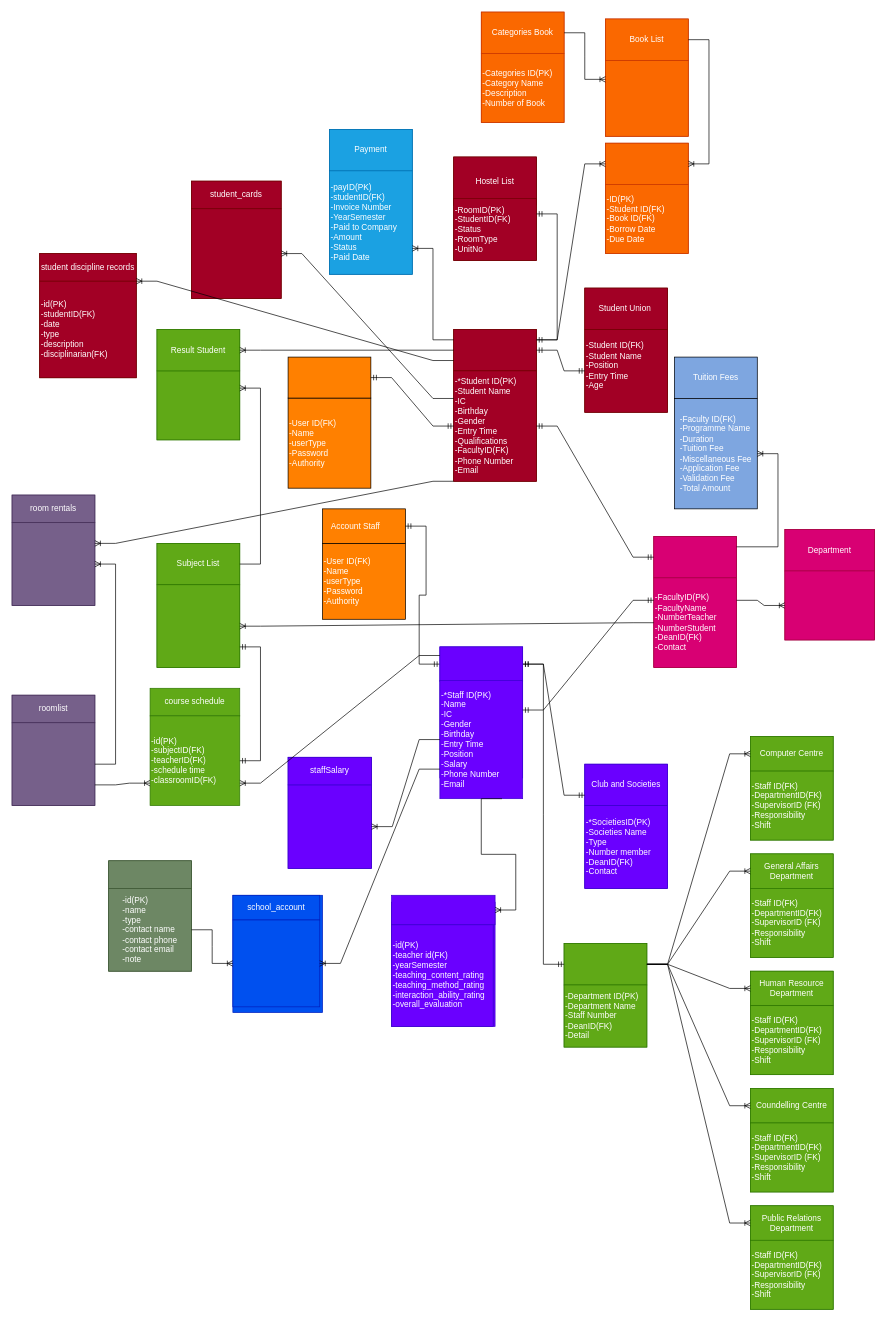
This 887x1321 diagram has some shape labels left out. The centre of each missing label's shape, as x and y in pixels:
-Book ID(PK) -Title -Author -Publication year -Category ID(FK): [646,98]
-FacultyID(FK) -DepartmentID(PK) -ProgrammeName -NumberStudent -NumberSubject: [829,605]
-id(OK) -student_id(FK) -cardNumber -expiration_date -balance -activated: [236,253]
-id(PK) -account name -account type -balance -description -Principal: [276,963]
-id(PK) -staffID(FK) -Month -baseSalary -bonus -deductions -netSalary: [329,826]
-roomID(PK) -Type -Capacity -Unit -Description: [53,764]
-studentID(FK) -subjectID(FK) -Type -Credit -Grade -Grade Point: [198,405]
-subjectID (PK) -Subject Name -Type -Credit -Hours -FacultyID(FK) -Birthday: [198,626]
Account Student: [329,377]
Administration Units: [605,964]
Borrow List: [646,163]
Faculty: [695,557]
ID(PK) roomID(FK) studentID(FK) startTime endTime purpose: [53,563]
school third parties: [149,874]
Staff: [481,663]
Student List: [494,350]
teacher evaluation: [443,910]
